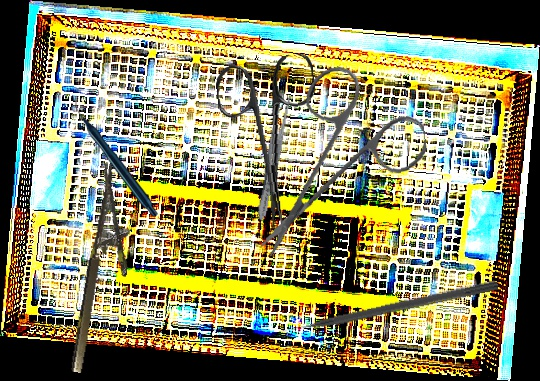Dressing Forceps: (252, 91, 294, 223)
Handpiece: (75, 98, 158, 217)
Iris Scissors: (240, 56, 438, 258), (213, 52, 330, 236)
Needle Holder: (68, 162, 146, 378)
Pusher: (277, 277, 499, 338)
